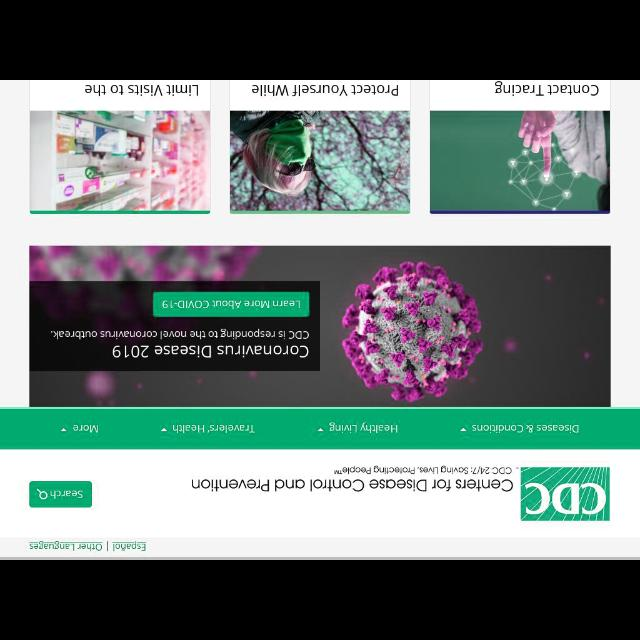backgroundimage: (29, 246, 610, 407)
icon: (521, 468, 609, 522), (36, 488, 48, 500), (316, 427, 324, 431), (160, 428, 168, 432), (60, 428, 68, 432), (459, 428, 466, 432)
image: (29, 110, 210, 214), (230, 110, 410, 214), (430, 112, 610, 215)
link: (26, 540, 104, 552), (112, 541, 148, 551)
multitab: (1, 409, 640, 449)
spinner: (458, 423, 580, 435), (317, 422, 399, 434), (160, 423, 256, 433), (61, 424, 98, 434)
text: (191, 465, 513, 493), (51, 328, 309, 358), (252, 84, 398, 96), (496, 81, 598, 95), (85, 84, 198, 96), (163, 300, 301, 308), (472, 424, 578, 434), (173, 424, 255, 434), (329, 422, 397, 433), (51, 489, 83, 499), (72, 424, 98, 434)
textbutton: (153, 291, 310, 317), (29, 482, 92, 508)
